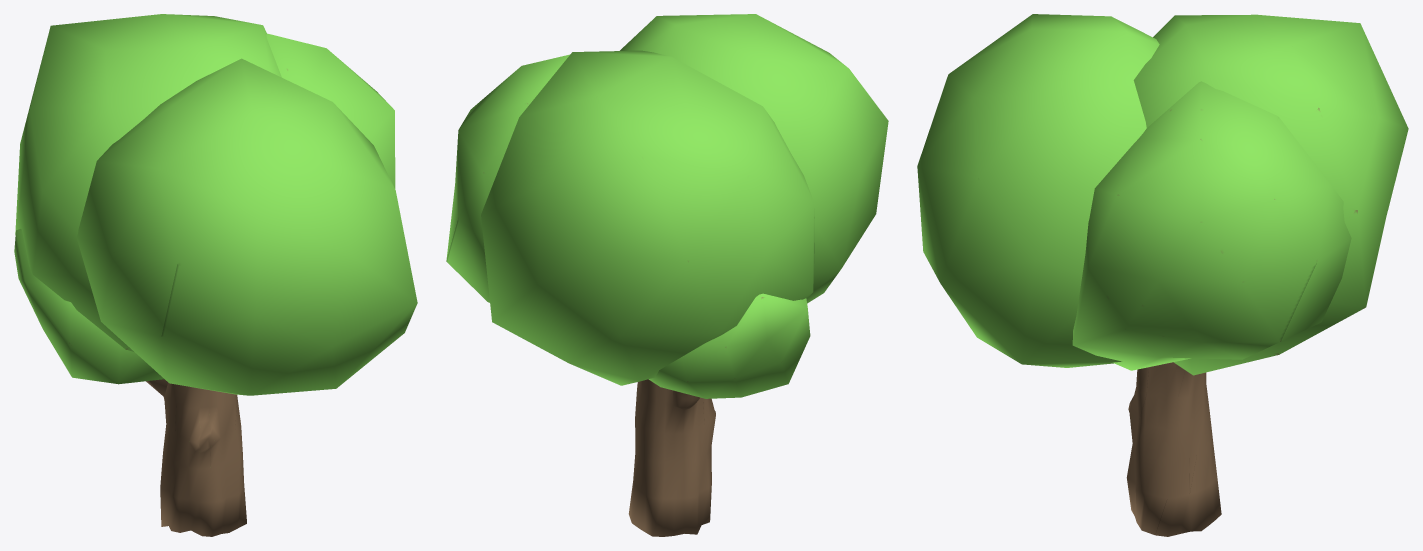
The model's file is tree.fbx.
3 renders of one model, left to right at view 1: azimuth 30°, elevation 25°; view 2: azimuth 150°, elevation 25°; view 3: azimuth 270°, elevation 25°, orthographic. The views are drawn at different scales.
Visible parts, largest first — view 1: Tree; view 2: Tree; view 3: Tree.
Part boxes in pixels (bbox=[...]): Tree: bbox=[14, 14, 417, 536]; Tree: bbox=[446, 14, 888, 536]; Tree: bbox=[917, 14, 1408, 536].
Bounding box in the file's own units: 1650 × 2182 × 1957.
